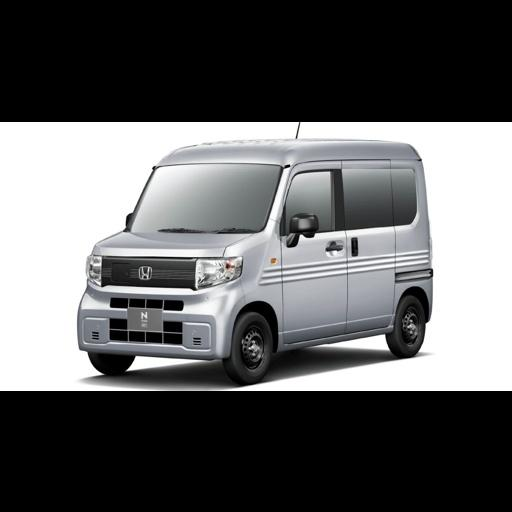van: (77, 140, 432, 383)
